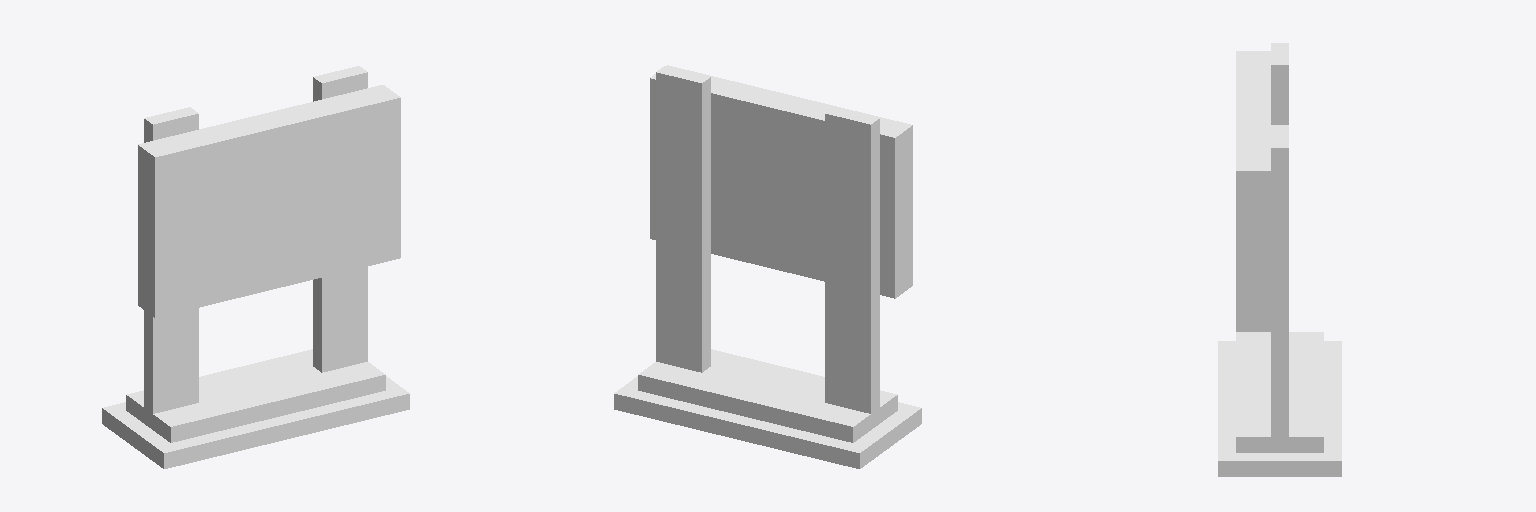
Rendered from boardLow.obj.
3 views of the same model, side by side, from view 1: azimuth 30°, elevation 25°; view 2: azimuth 150°, elevation 25°; view 3: azimuth 270°, elevation 25° (orthographic).
Visible parts, largest first — view 1: object 1; view 2: object 1; view 3: object 1.
Boxes of the visible parts, <box> form: object 1: <box>102,66,409,468</box>; object 1: <box>614,65,921,468</box>; object 1: <box>1218,43,1341,476</box>.
Bounding box in the file's own units: 1.6 × 2 × 0.7.